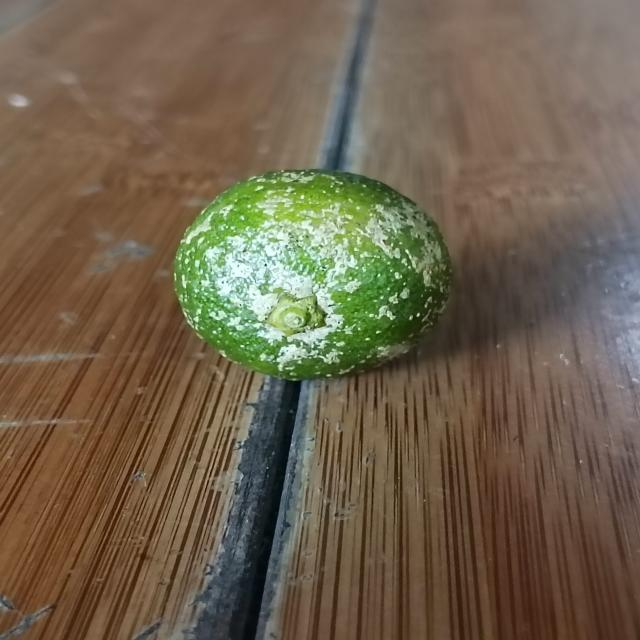scab: (162, 161, 462, 387)
